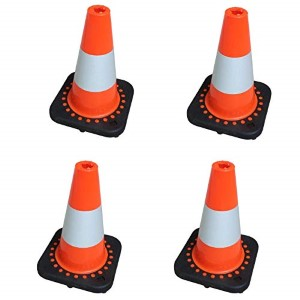traffic cone: (49, 4, 134, 138), (174, 160, 259, 294), (187, 6, 271, 140), (37, 160, 121, 293)
